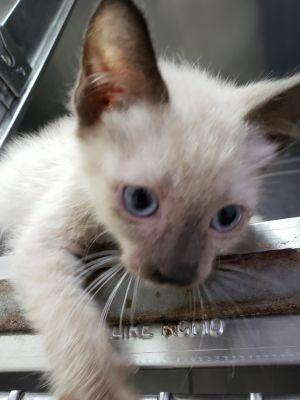siamese: (53, 1, 300, 302)
